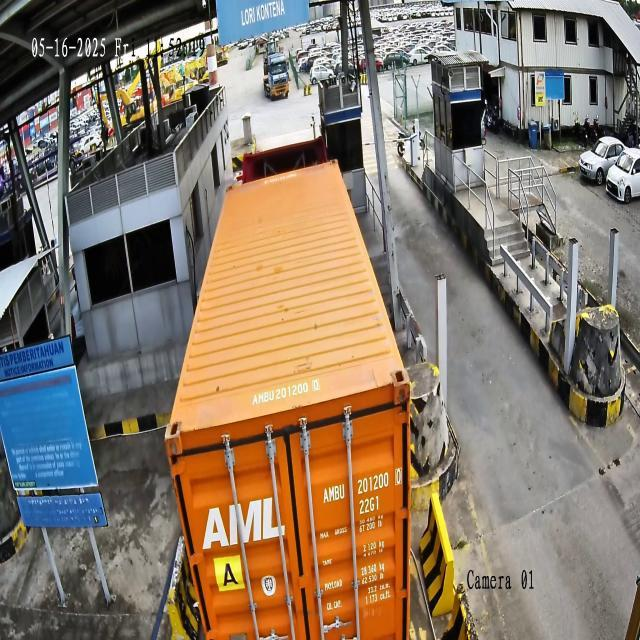ISO: (356, 492, 382, 516)
container_number: (323, 465, 405, 505)
